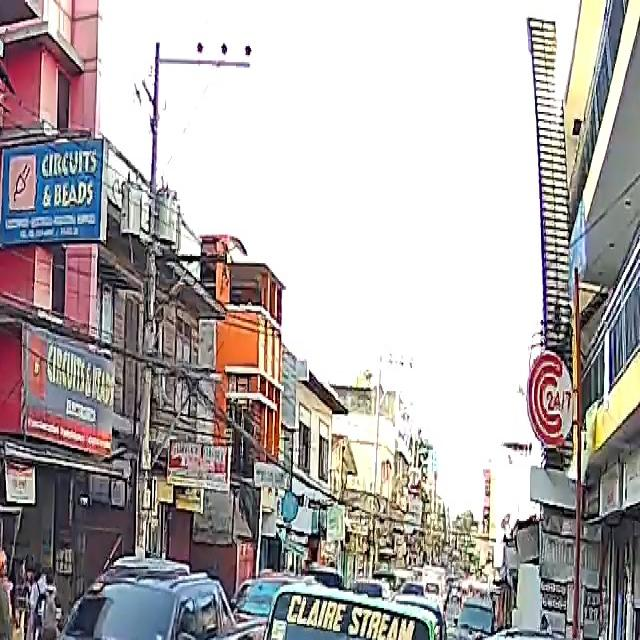car: (6, 574, 257, 640), (233, 572, 339, 626), (454, 629, 640, 640), (0, 567, 17, 640)
